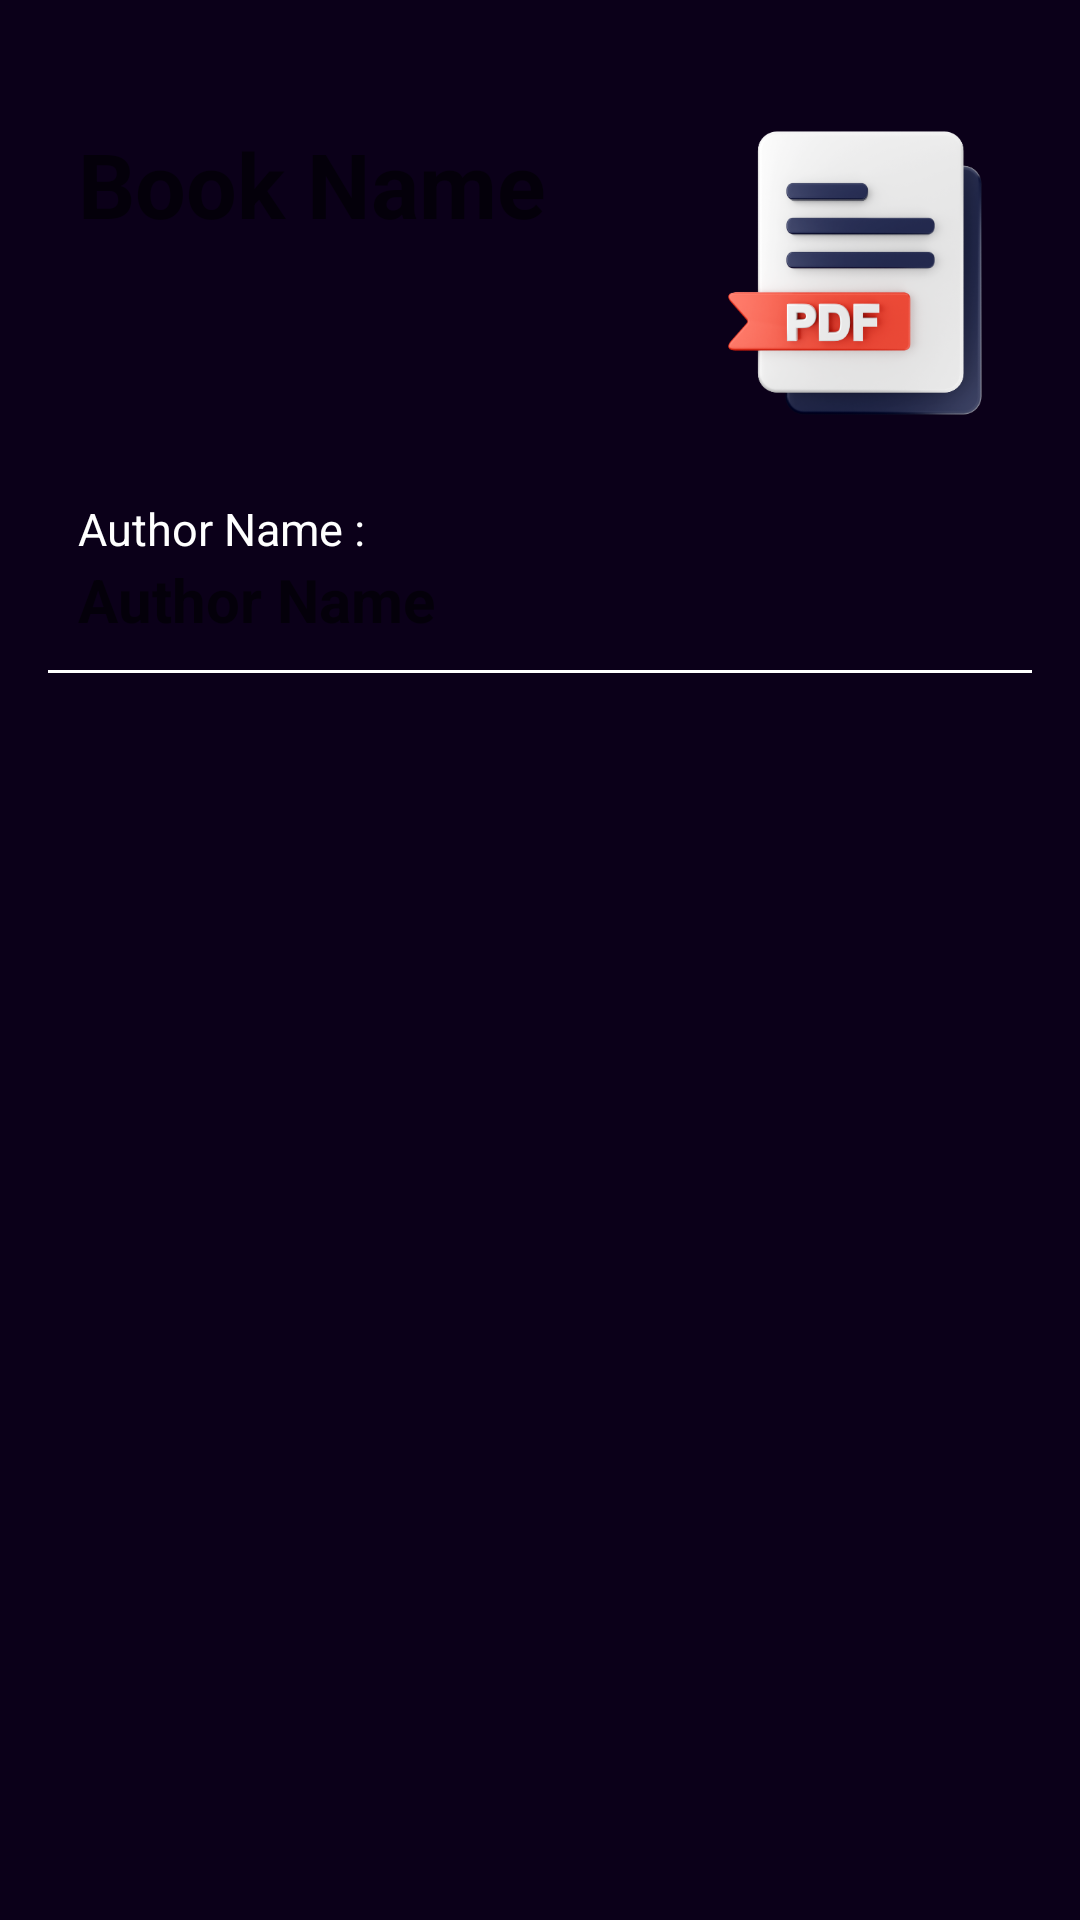

Icon bounding boxes for this 1080w x 1920h phone screenshot, format (x1, y1, x2, y2):
pdfphoto: (728, 131, 982, 415)
